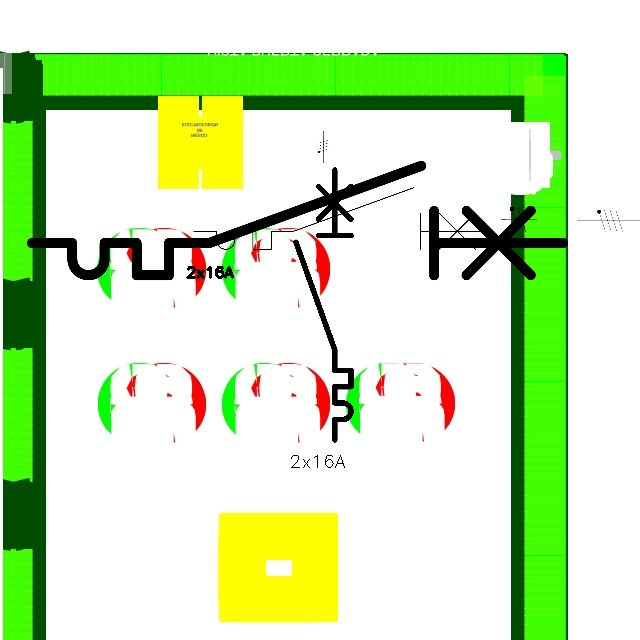interruptor_termomagnetico: (18, 152, 577, 289), (186, 180, 502, 257), (289, 163, 358, 447)
